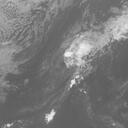cyclone: (64, 43, 93, 72)
